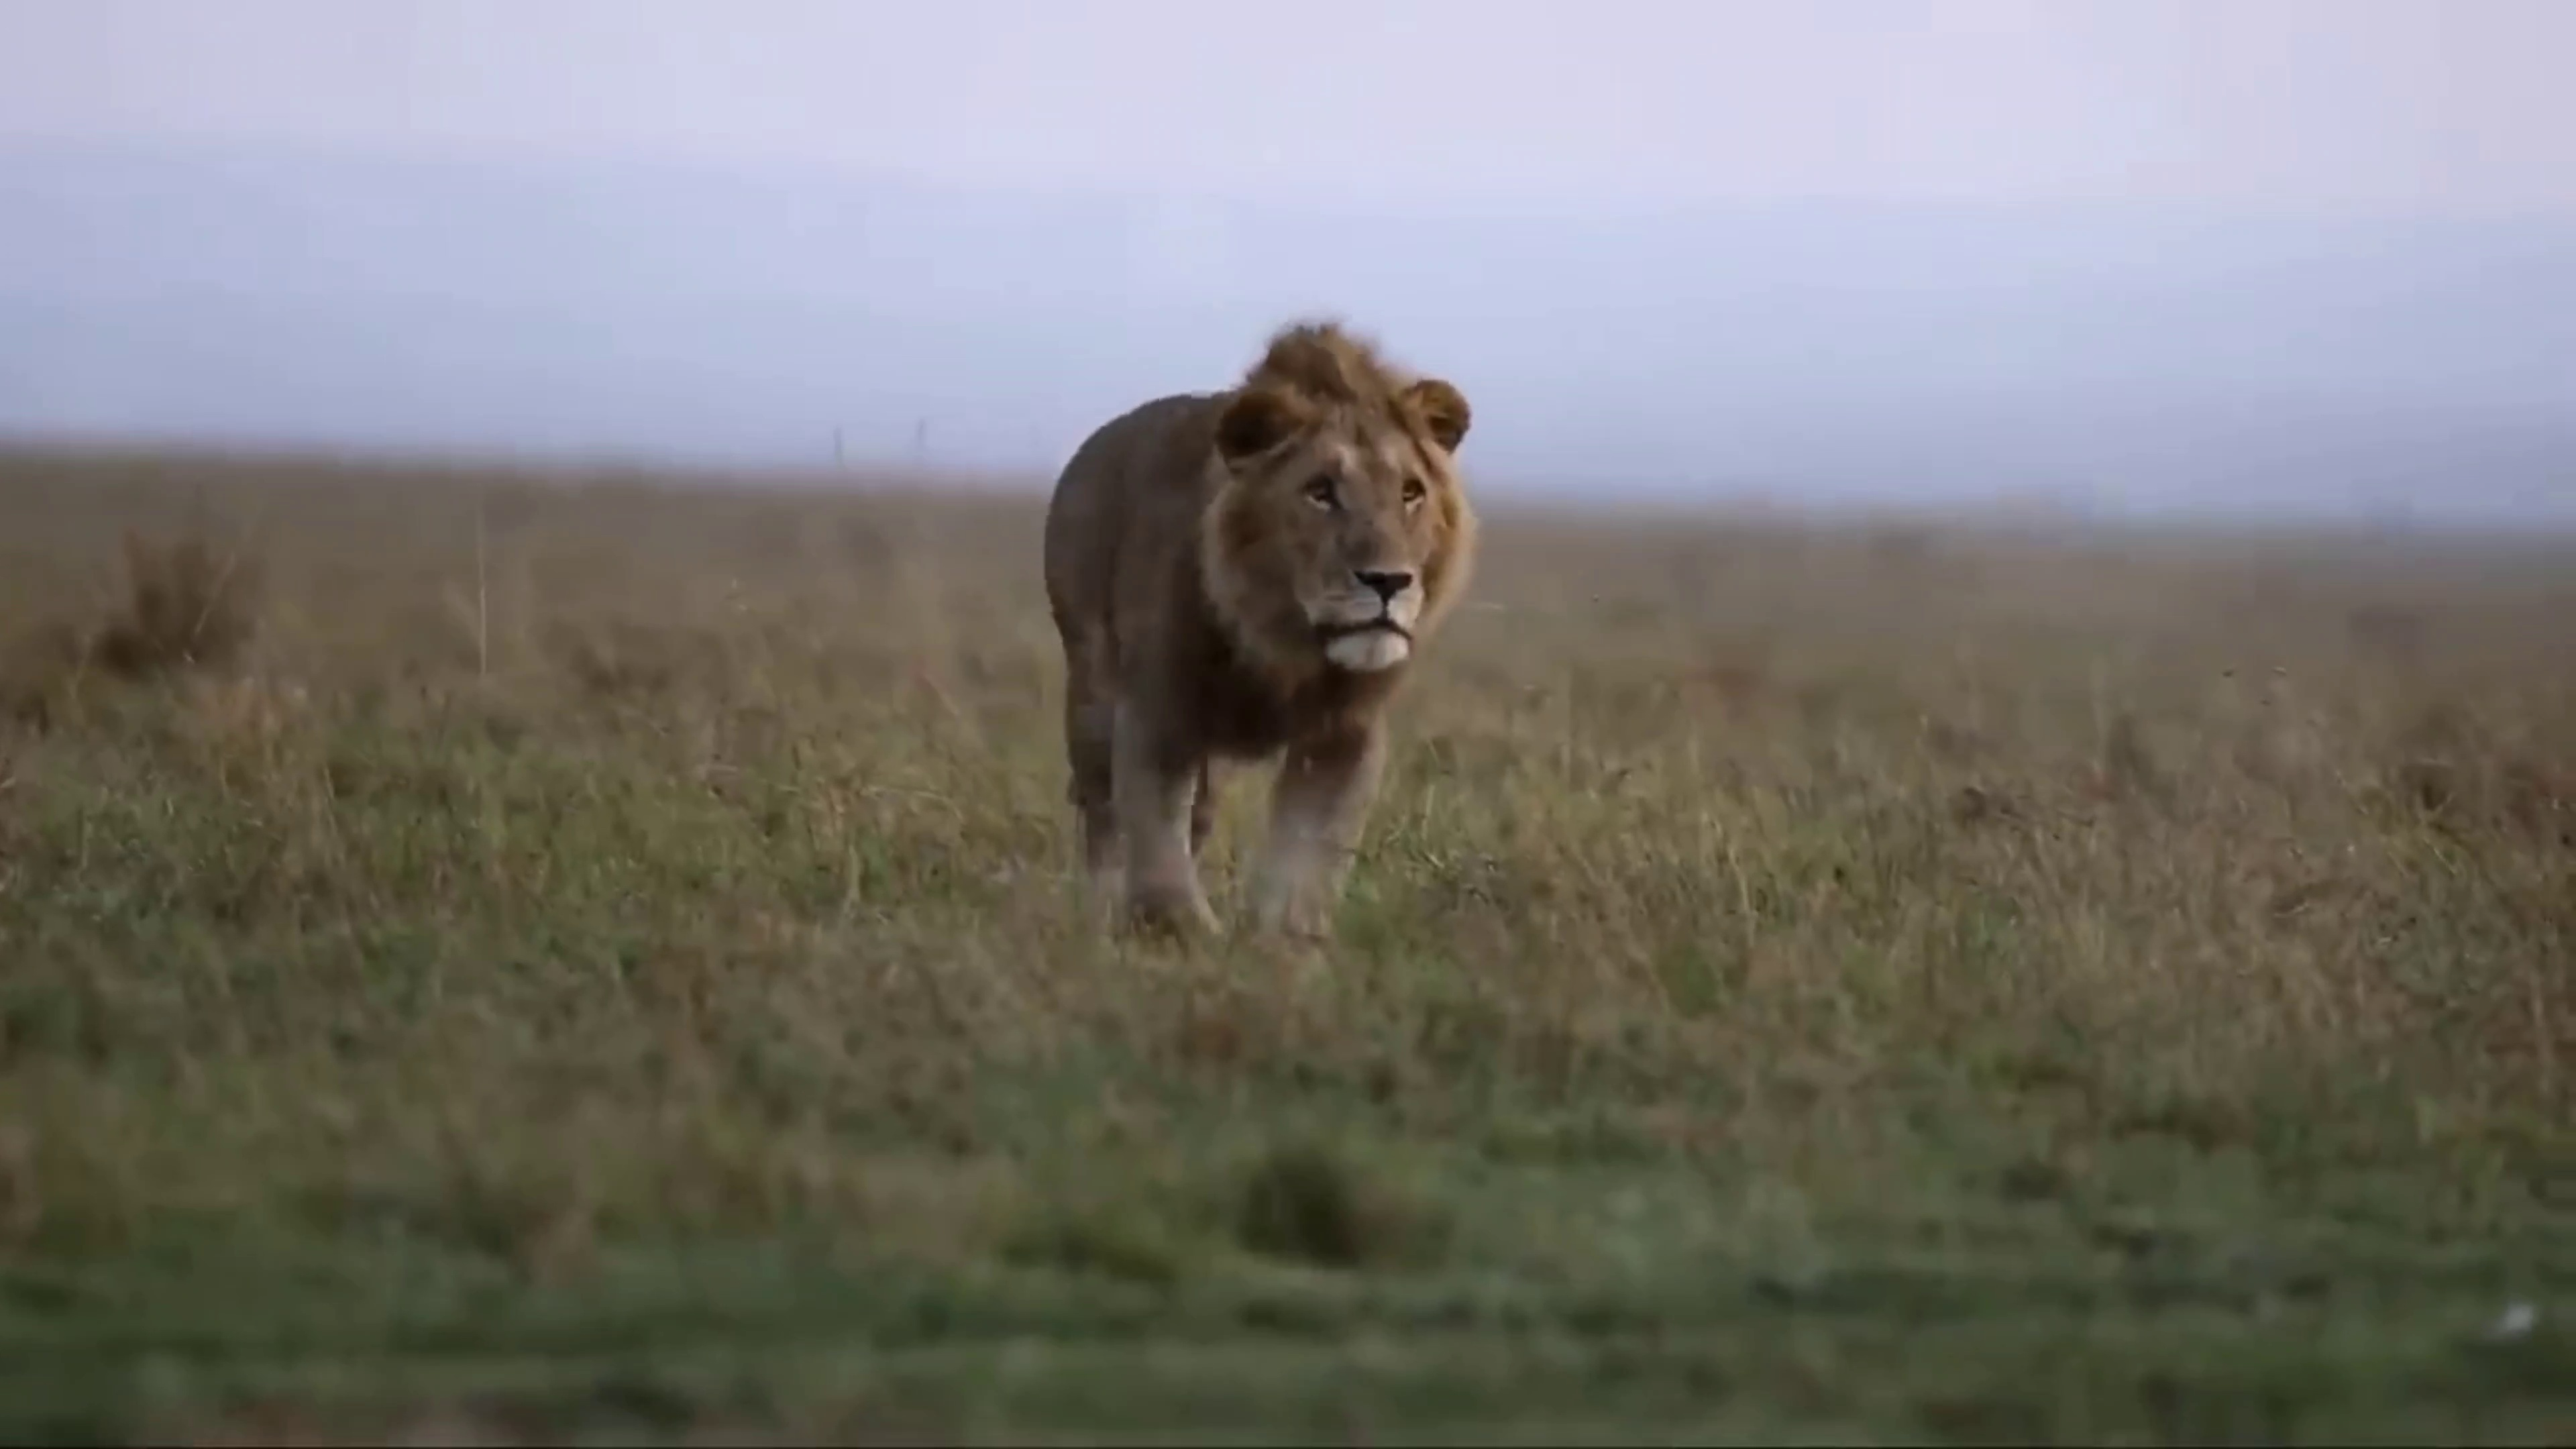Lion: (1046, 313, 1481, 962)
